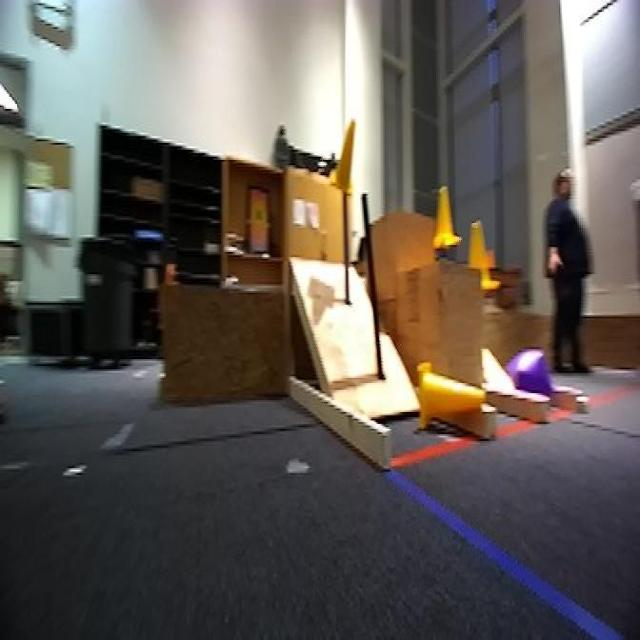frc_cone: (414, 352, 488, 446), (330, 117, 364, 194), (467, 220, 501, 291), (433, 187, 458, 249)
frc_cube: (507, 351, 548, 404)
